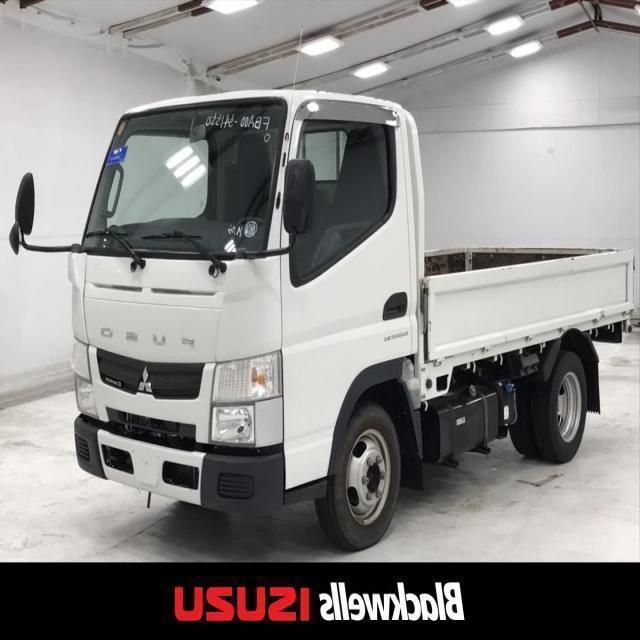truck: (11, 90, 640, 550)
